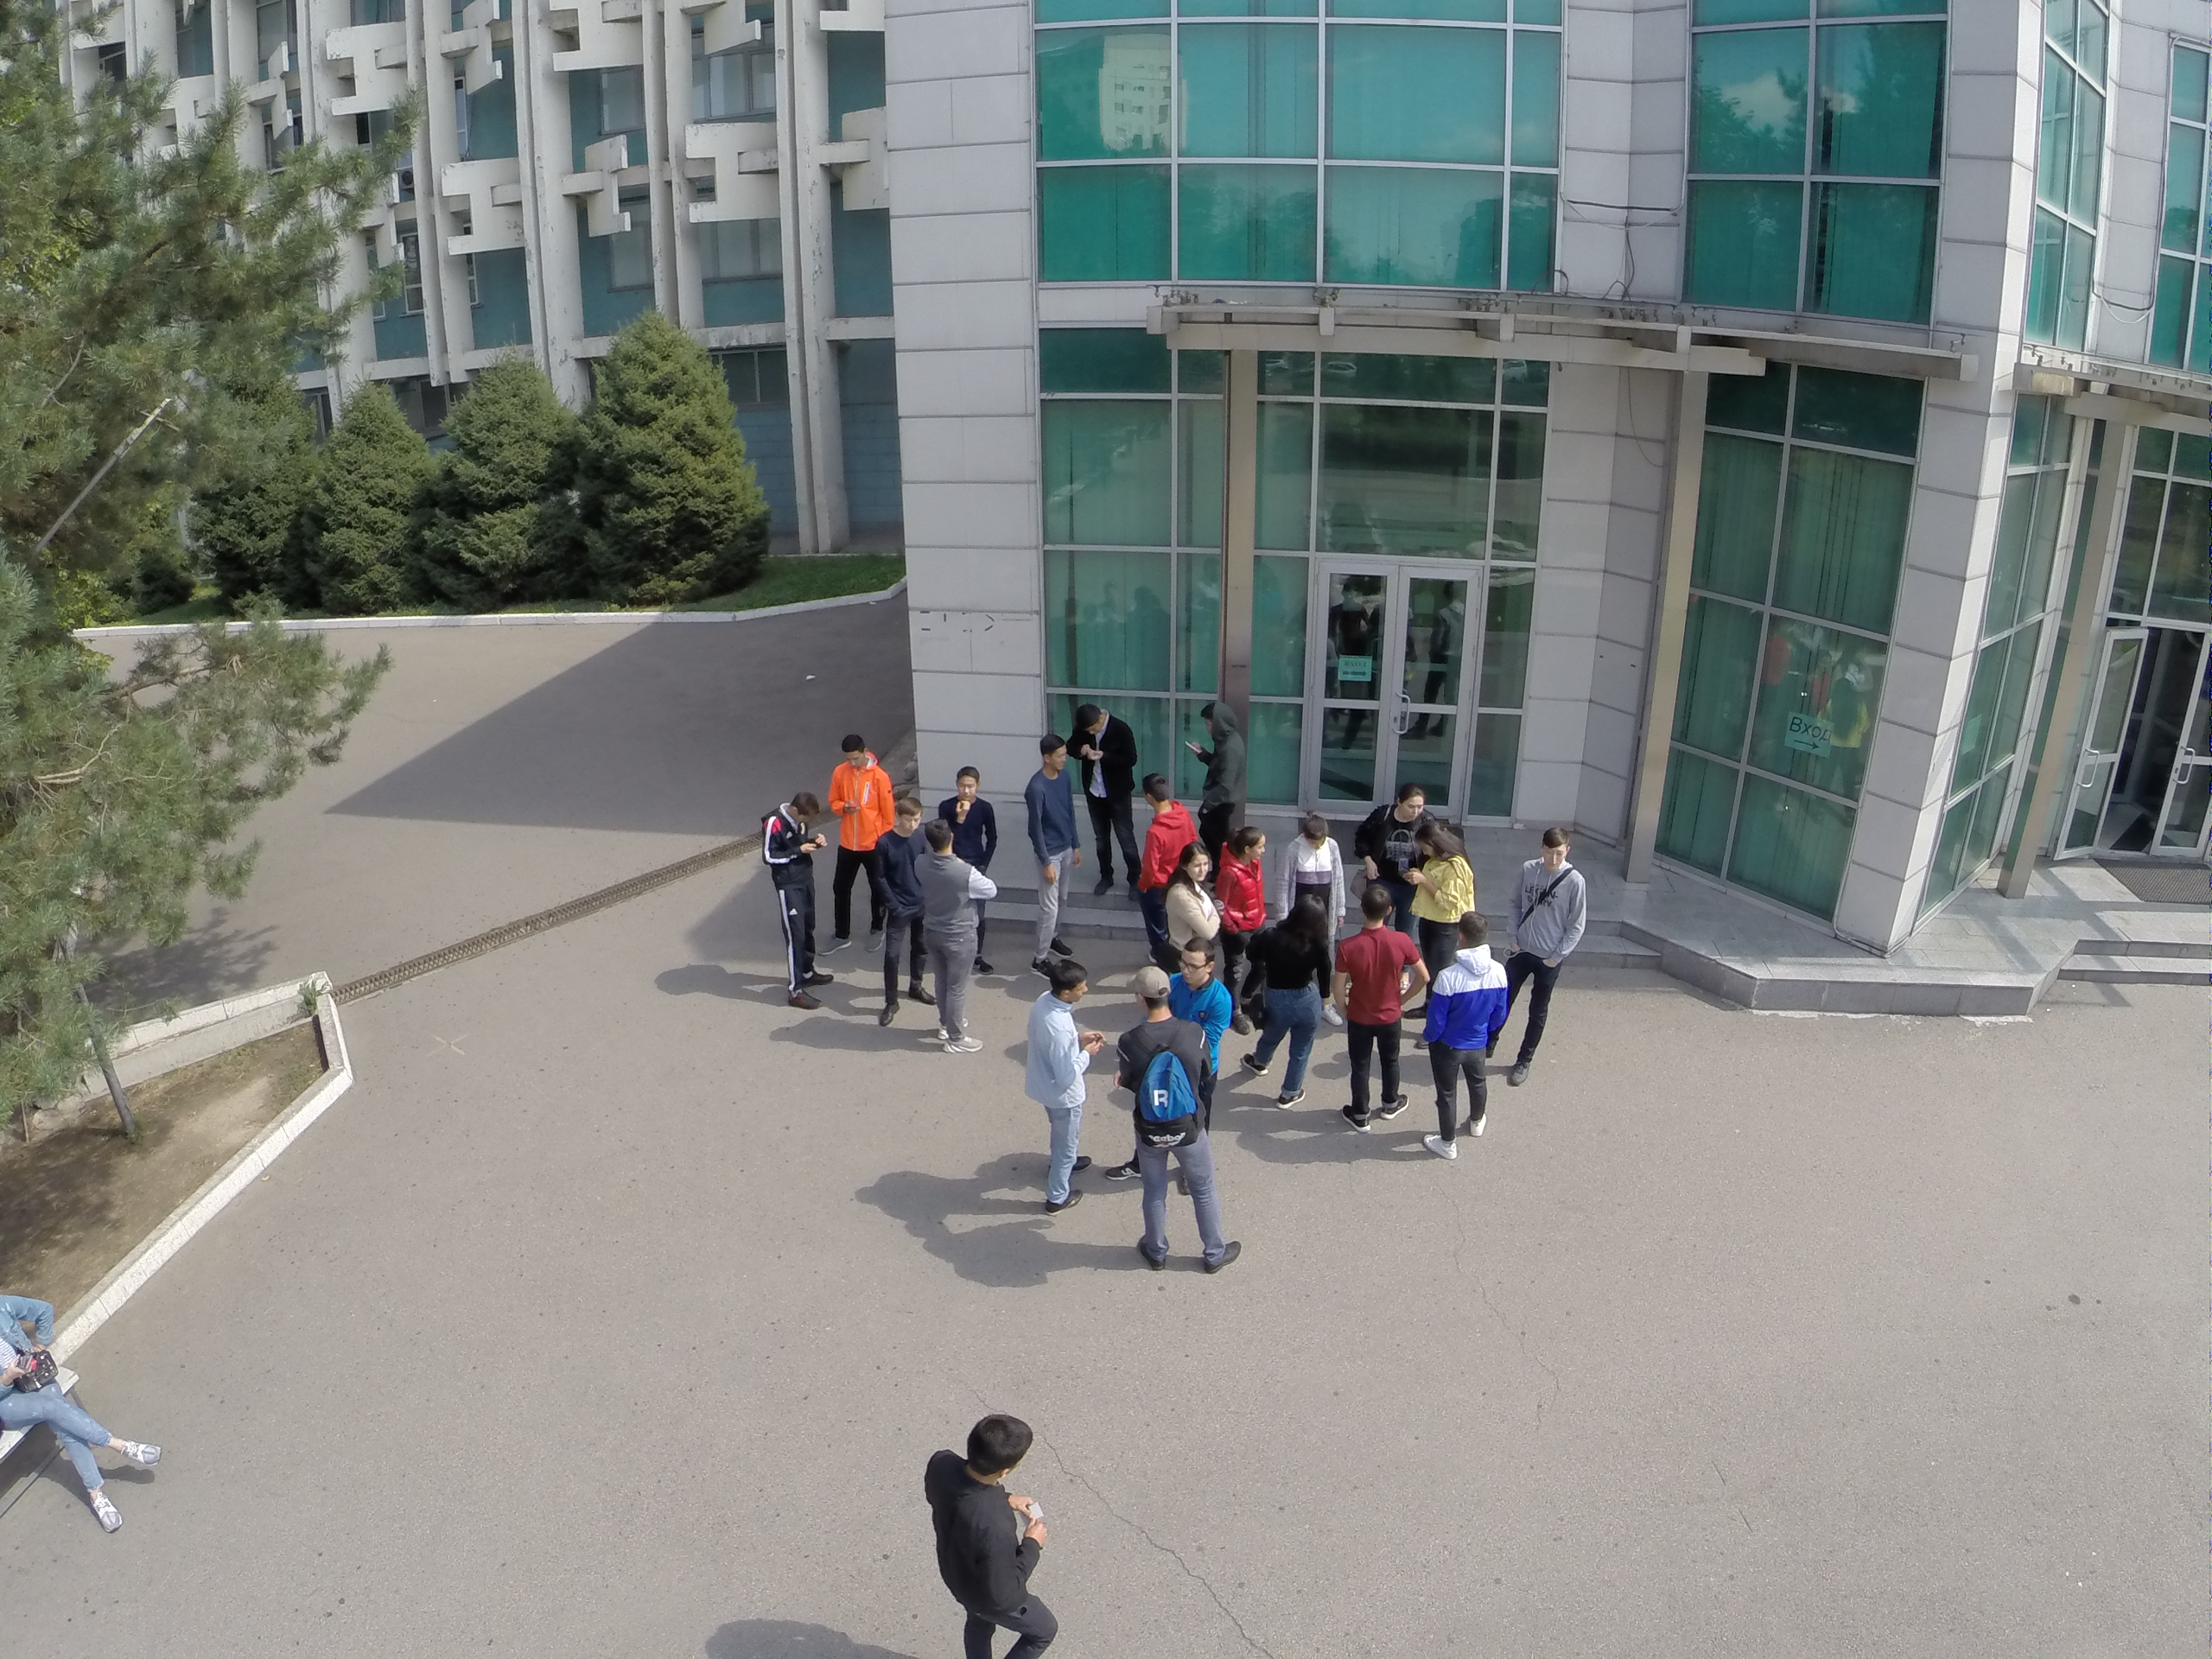person: (1, 1287, 165, 1543), (920, 1406, 1071, 1659), (1121, 969, 1233, 1274), (1500, 821, 1588, 1099), (1339, 880, 1430, 1138), (1426, 904, 1510, 1165), (1017, 956, 1096, 1217), (753, 793, 842, 1022), (917, 820, 991, 1057), (1257, 894, 1329, 1116), (1067, 701, 1139, 899), (1023, 733, 1077, 974), (823, 735, 887, 949), (880, 796, 937, 1028), (1363, 778, 1440, 896), (1190, 701, 1249, 836), (1402, 819, 1478, 916), (1135, 770, 1190, 887), (941, 766, 997, 873), (1166, 843, 1222, 952), (1173, 938, 1230, 1042), (1281, 813, 1344, 906), (1219, 826, 1268, 936)
